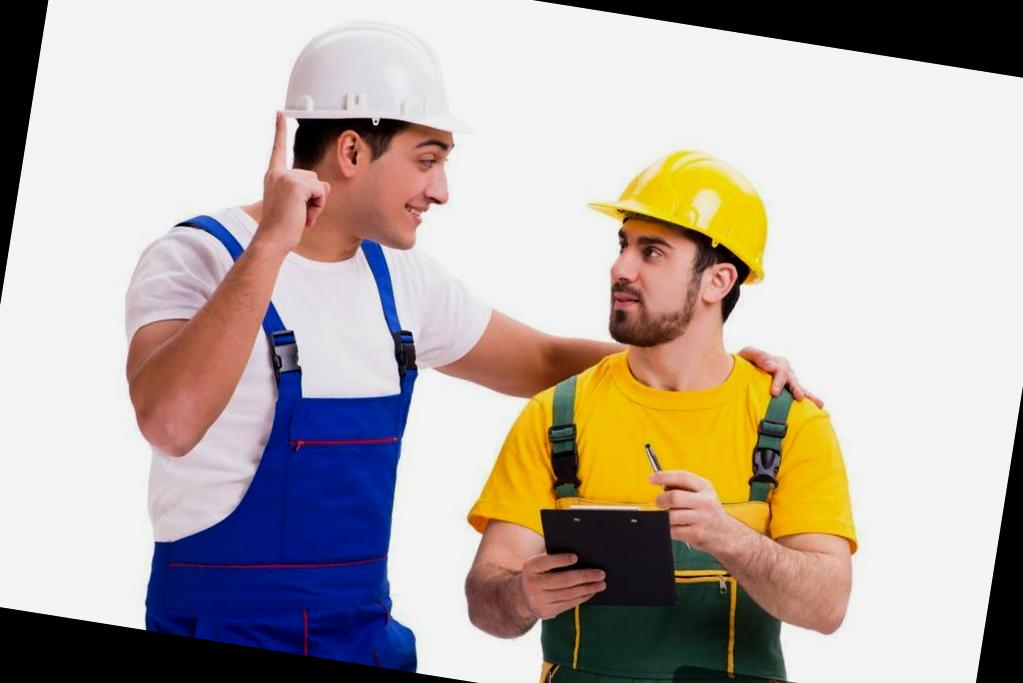helmet: (270, 0, 496, 154), (574, 130, 792, 280)
no_vest: (484, 321, 835, 683), (115, 222, 438, 612)
person: (64, 0, 494, 668), (442, 120, 917, 683)
